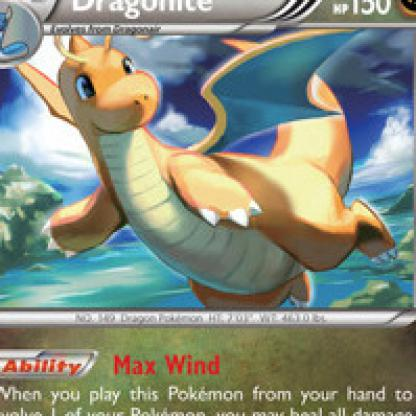Dragonite: (35, 35, 398, 321)
